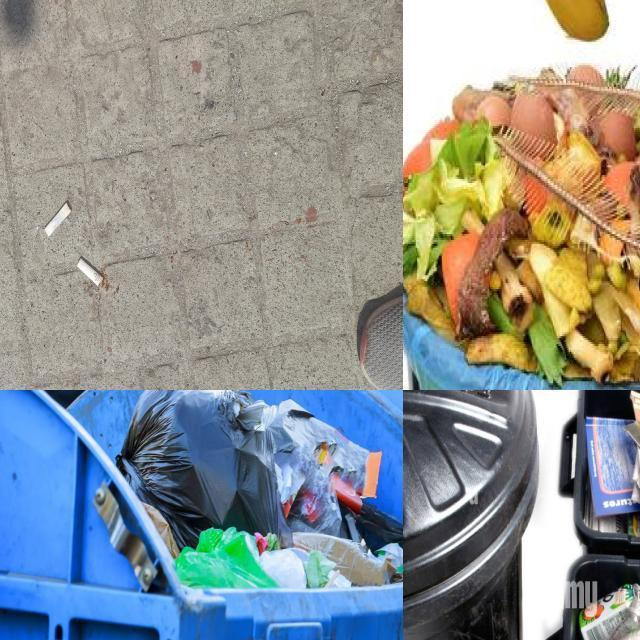Cig_bud: (44, 201, 72, 238), (76, 258, 104, 286)
Garbage: (403, 59, 640, 382), (117, 390, 403, 588)
Plastic_Bag: (115, 390, 284, 547), (264, 401, 369, 536), (175, 527, 277, 588), (293, 531, 389, 586), (357, 501, 403, 547), (261, 550, 306, 588)
can: (578, 583, 633, 640)
